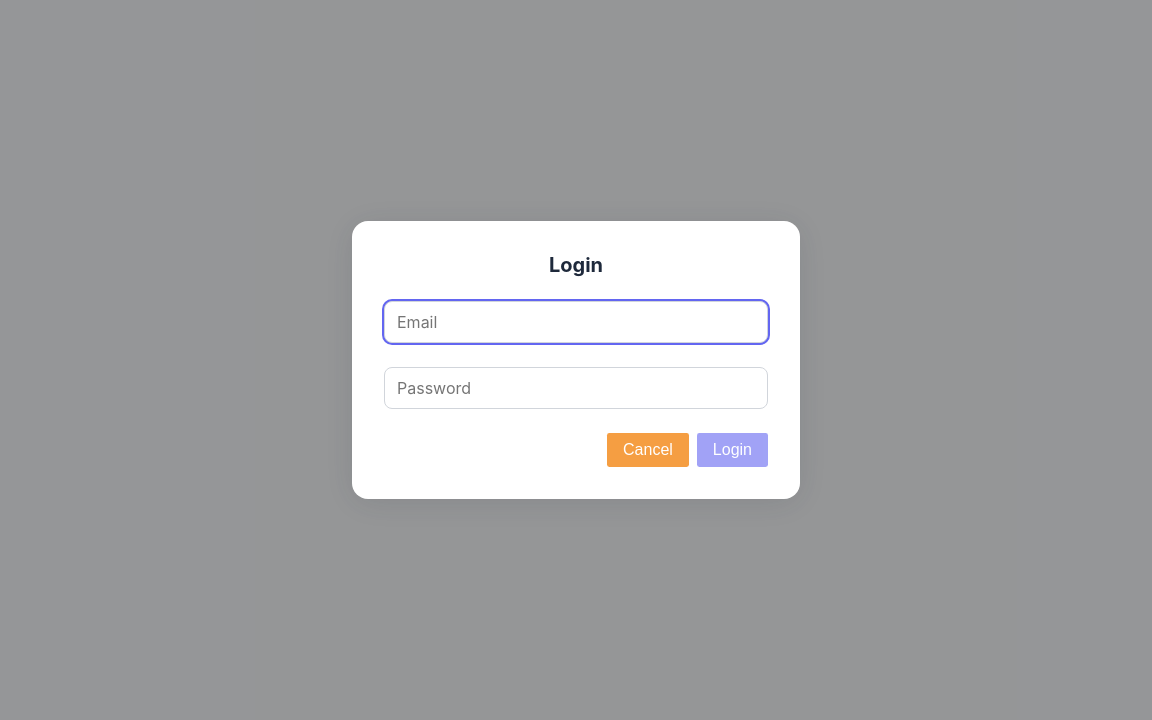
Test: LoginModal › shows error for invalid email format on blur
The width and height of the screenshot is (1152, 720).
In the field with placeholder "Email": [576, 322] box [384, 301, 768, 343], type "invalid-email"
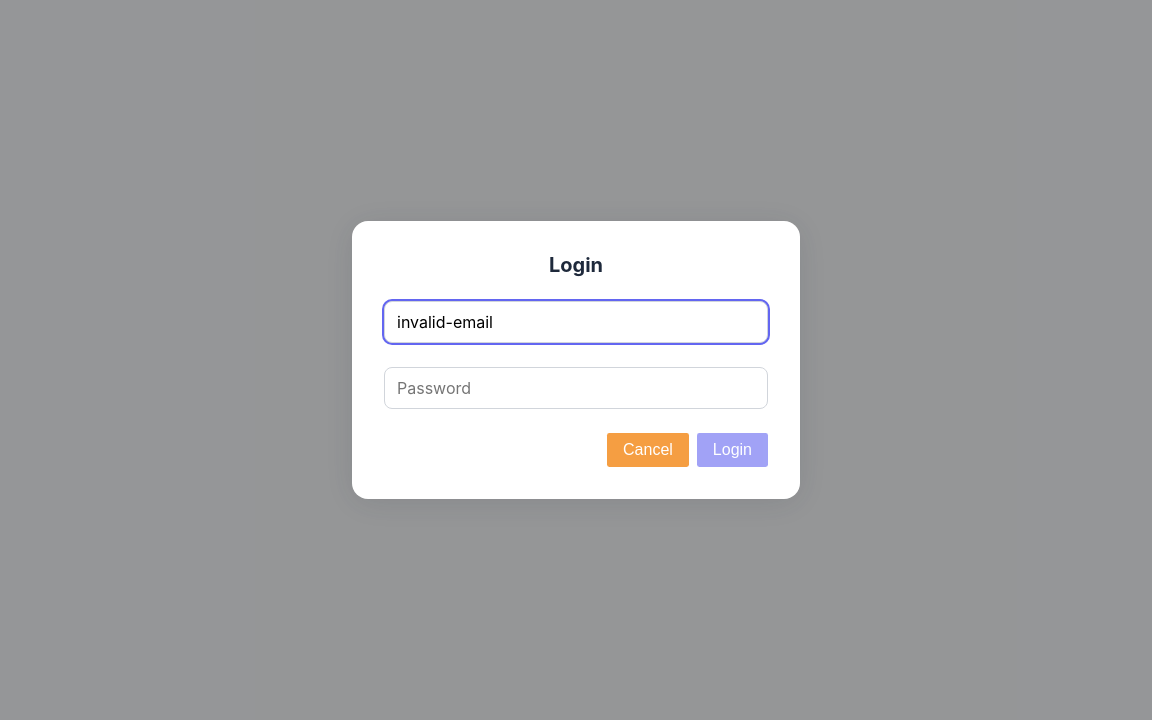
Leave the field with placeholder "Email", box [384, 301, 768, 343]
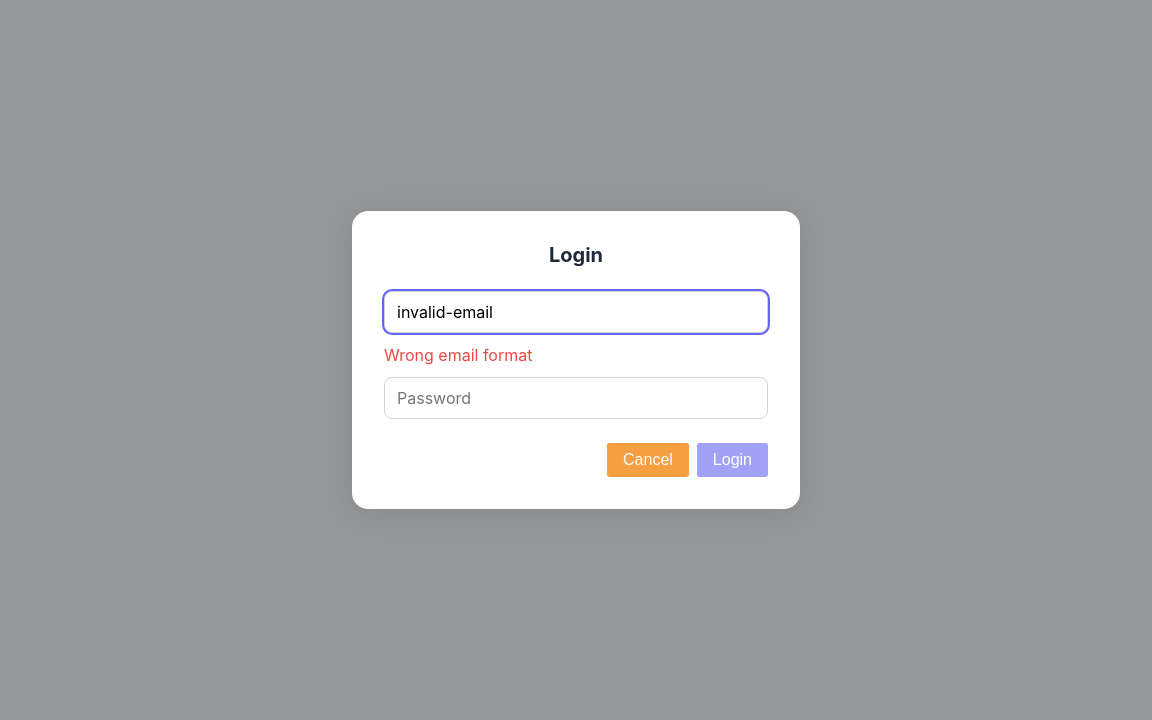
Now the text "Wrong email format" is shown, box [384, 345, 532, 365]
